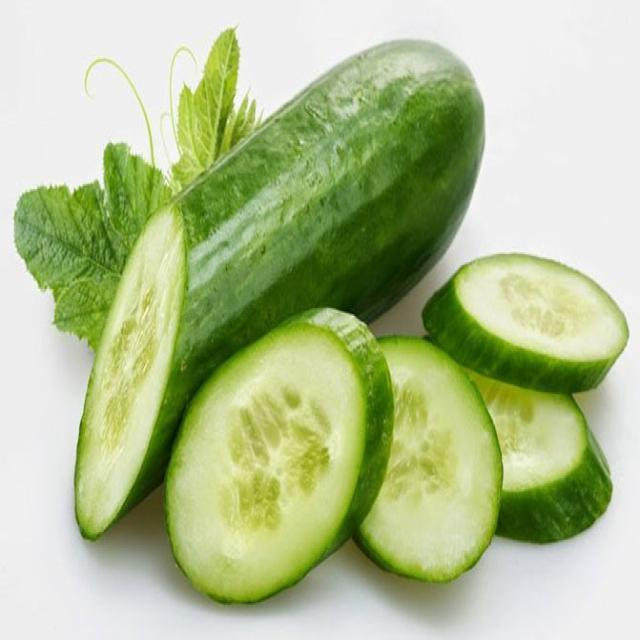cucumber: (72, 40, 486, 540)
